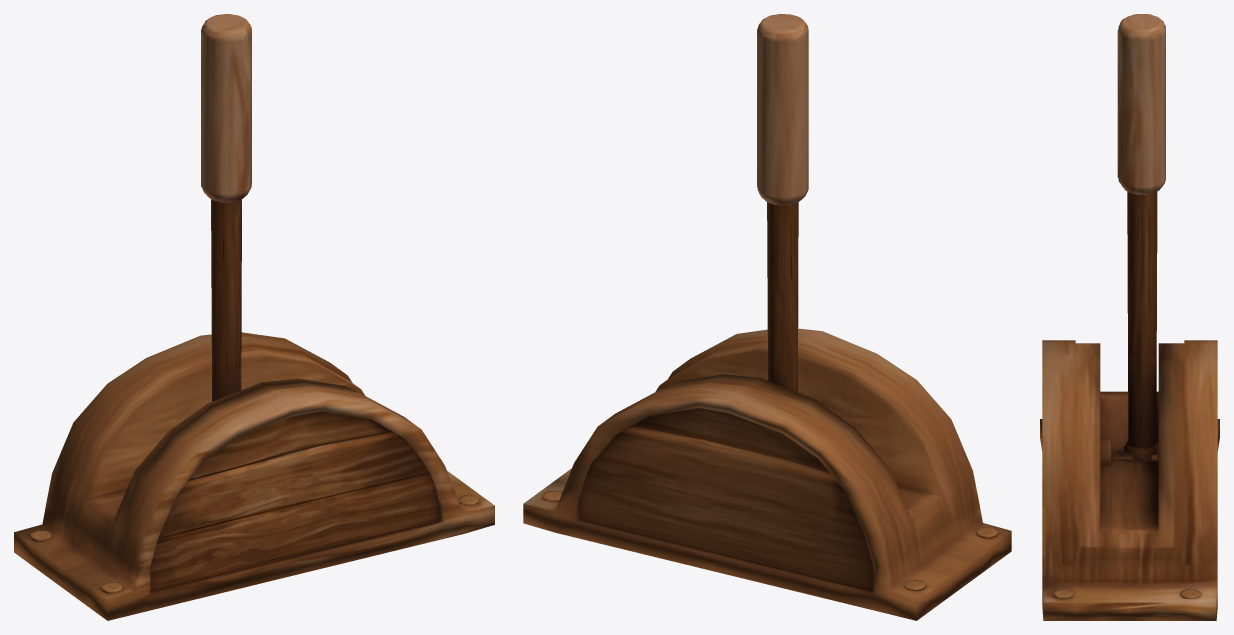
Rendered from Lever.glb.
The picture shows the model from 3 angles, left to right: view 1: azimuth 30°, elevation 25°; view 2: azimuth 150°, elevation 25°; view 3: azimuth 270°, elevation 25°; orthographic projection. The views are drawn at different scales.
Parts seen in each view (by area): view 1: tripo_node_7f8798d7-0bd5-42fb-8ffd-179b49c3dc55; view 2: tripo_node_7f8798d7-0bd5-42fb-8ffd-179b49c3dc55; view 3: tripo_node_7f8798d7-0bd5-42fb-8ffd-179b49c3dc55.
Part boxes in pixels (<box>): tripo_node_7f8798d7-0bd5-42fb-8ffd-179b49c3dc55: <box>14,14,494,620</box>; tripo_node_7f8798d7-0bd5-42fb-8ffd-179b49c3dc55: <box>523,14,1011,620</box>; tripo_node_7f8798d7-0bd5-42fb-8ffd-179b49c3dc55: <box>1040,14,1219,620</box>.
Size of the model in its own units: 0.7832 by 0.998 by 0.3262.
1 material, 1 textured.
